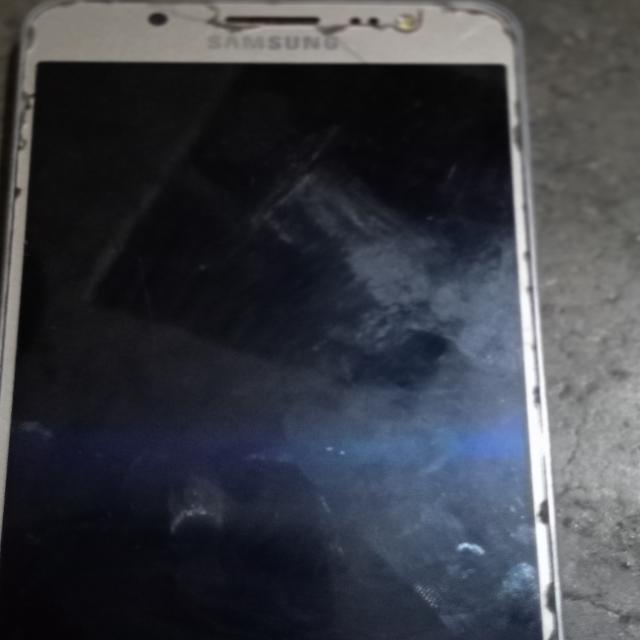Crack: (50, 12, 463, 86)
